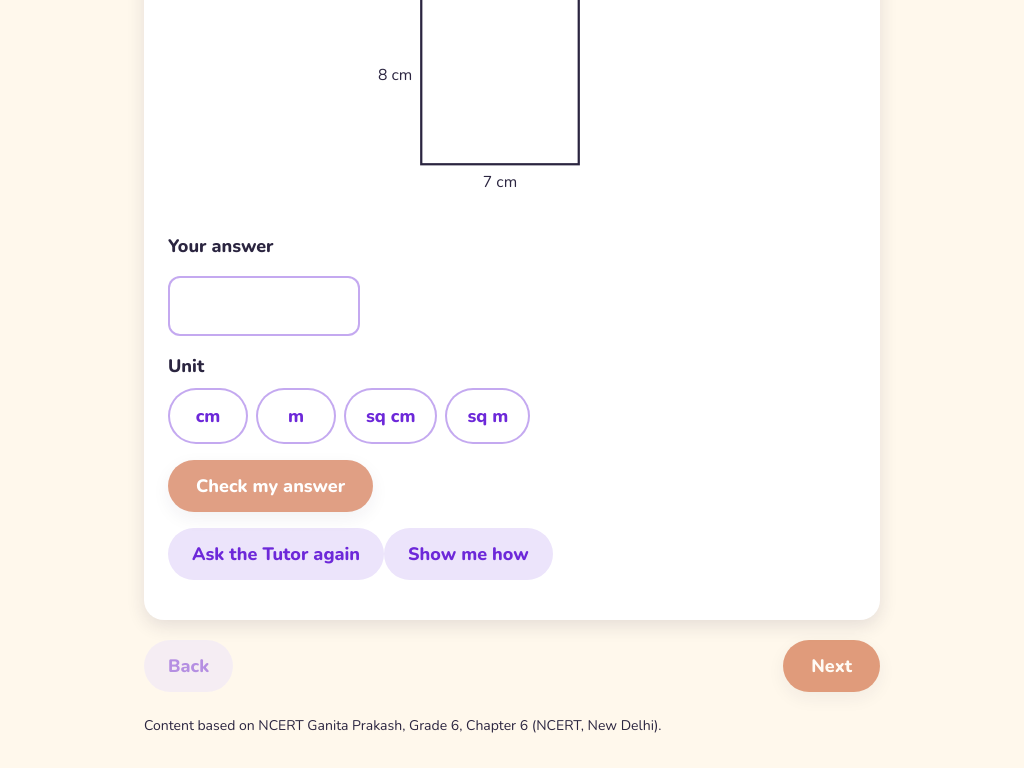
Scenario: Tutor gates and navigation › offers "Ask the Tutor again" on a question that already had a tutor session
The image size is (1024, 768).
(page scrolled)
Click the button "Ask the Tutor again" at (276, 554), box [168,528,384,580]
(page scrolled)
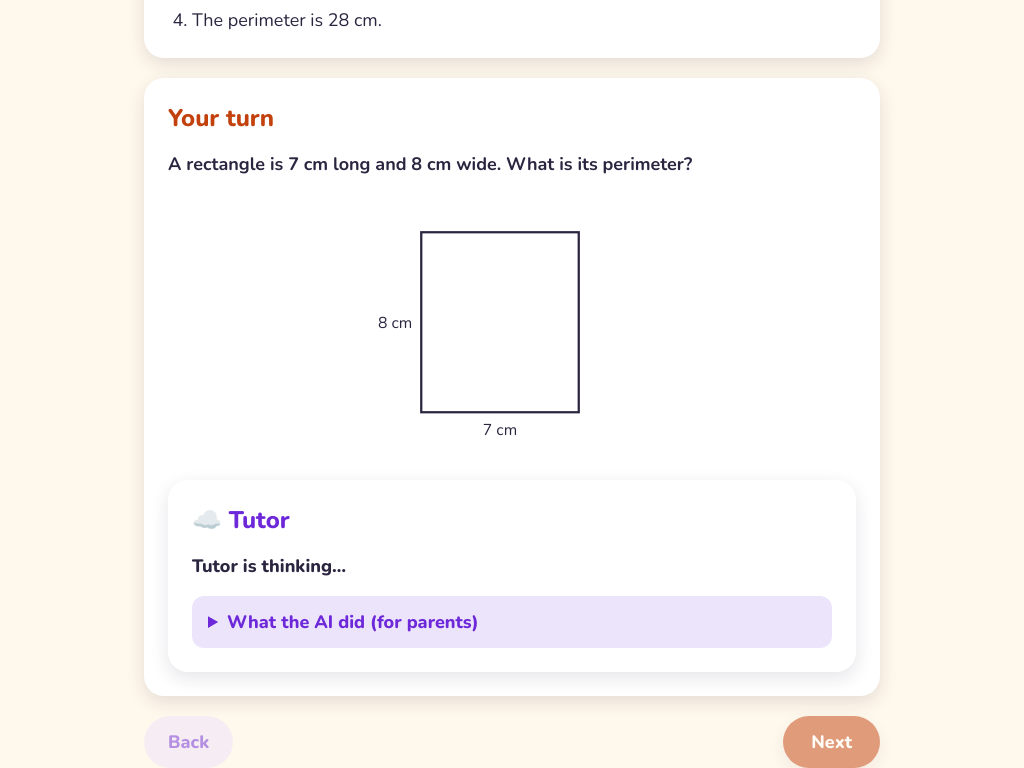
Now the heading "☁️ Tutor" is shown, box [192,504,290,536]
